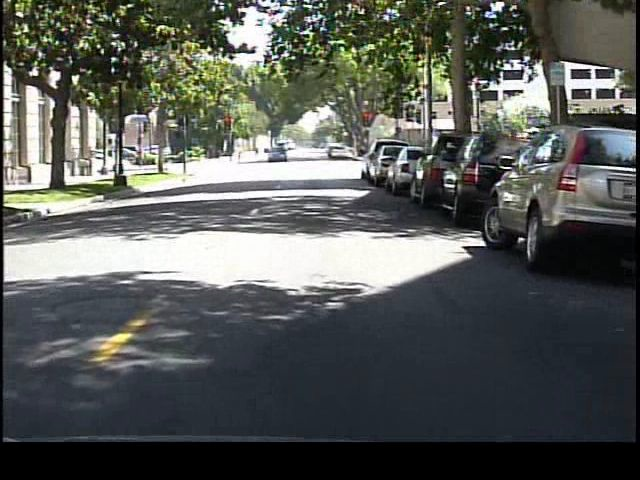person: (234, 140, 247, 165)
